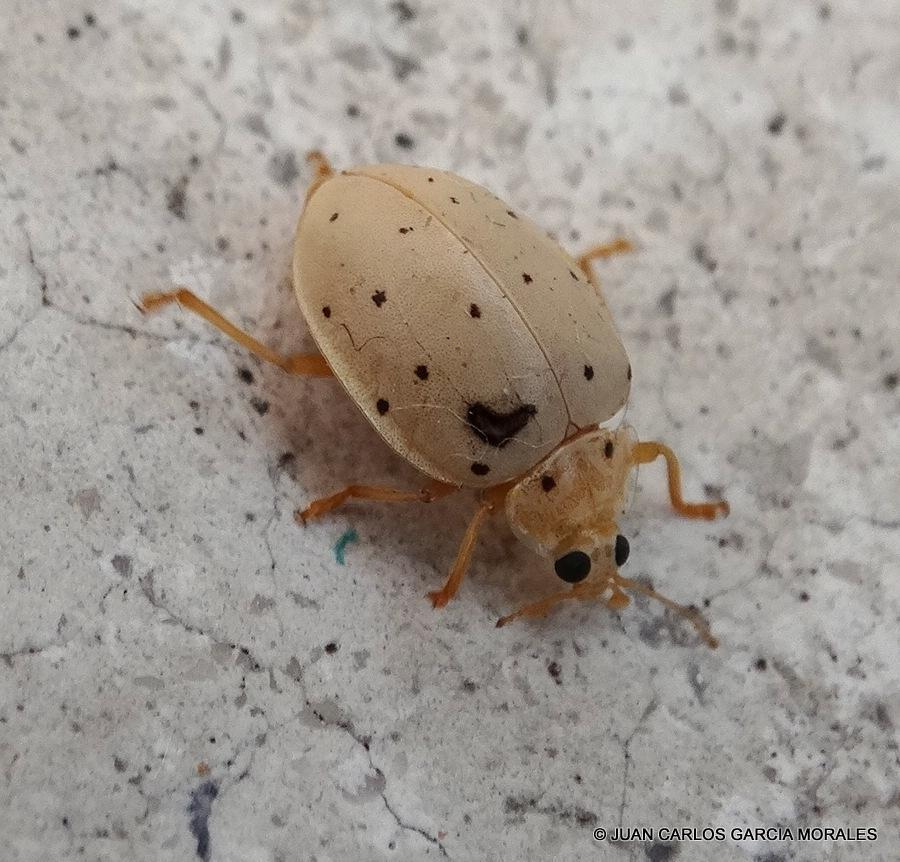ladybug: (139, 146, 731, 634)
